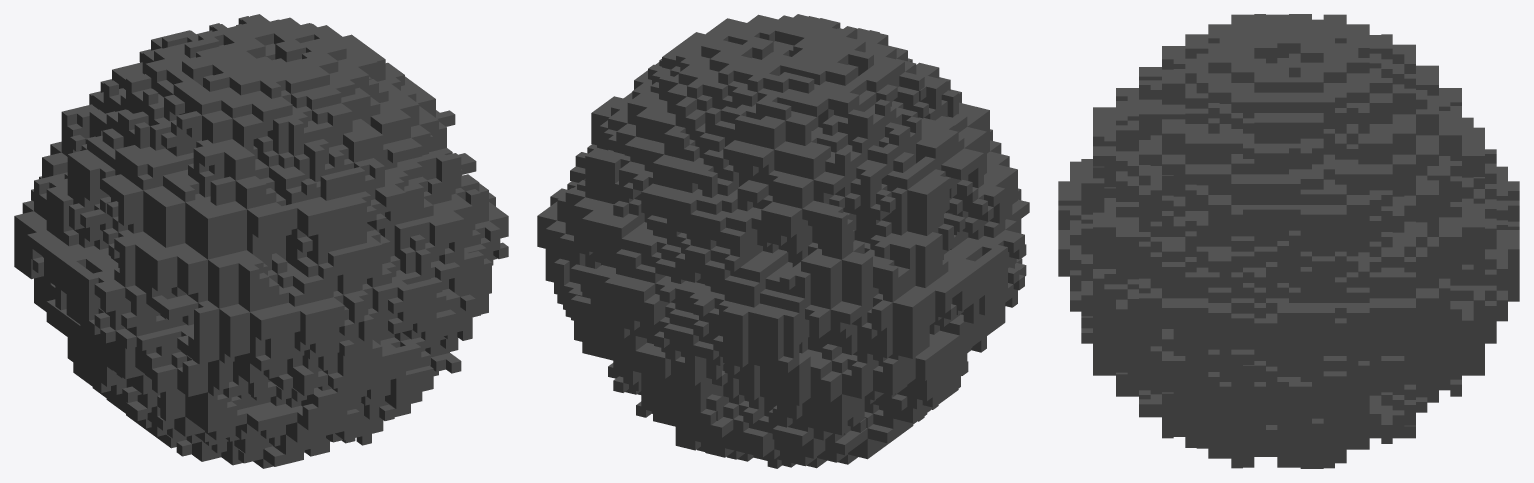
The model's file is planeta2.obj.
The picture shows the model from 3 angles, left to right: view 1: azimuth 30°, elevation 25°; view 2: azimuth 150°, elevation 25°; view 3: azimuth 270°, elevation 25°; orthographic projection. The views are drawn at different scales.
Size of the model in its own units: 4 by 3.7 by 4.
1 material, 1 textured.
